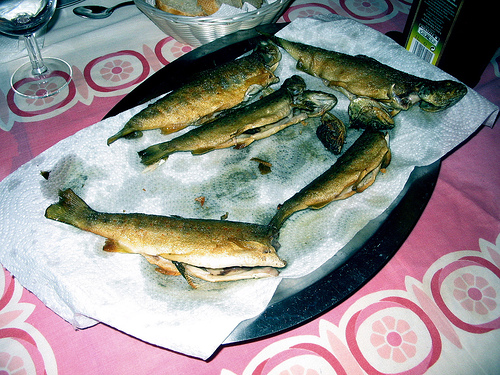fish: (42, 186, 289, 291)
